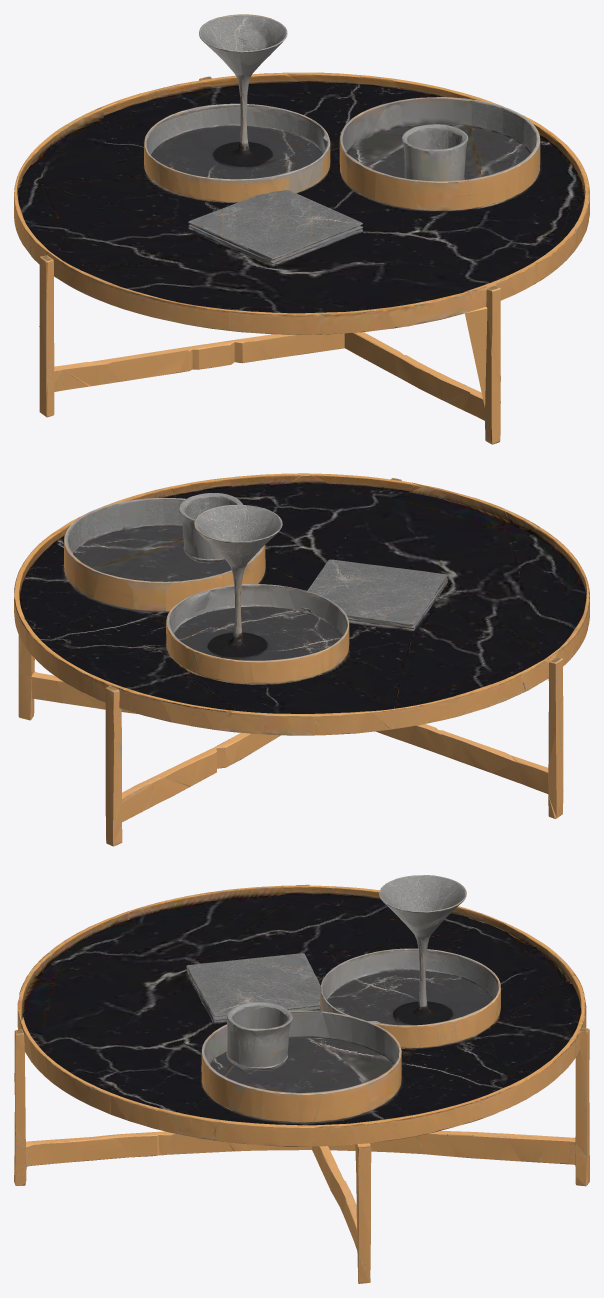
File: loungeCoffee.glb
3 renders of one model, top to bottom at view 1: azimuth 30°, elevation 25°; view 2: azimuth 150°, elevation 25°; view 3: azimuth 270°, elevation 25°, orthographic.
Bounding box in the file's own units: 1.9 × 0.9807 × 1.88.
Materials: 1 (1 with a texture image).
